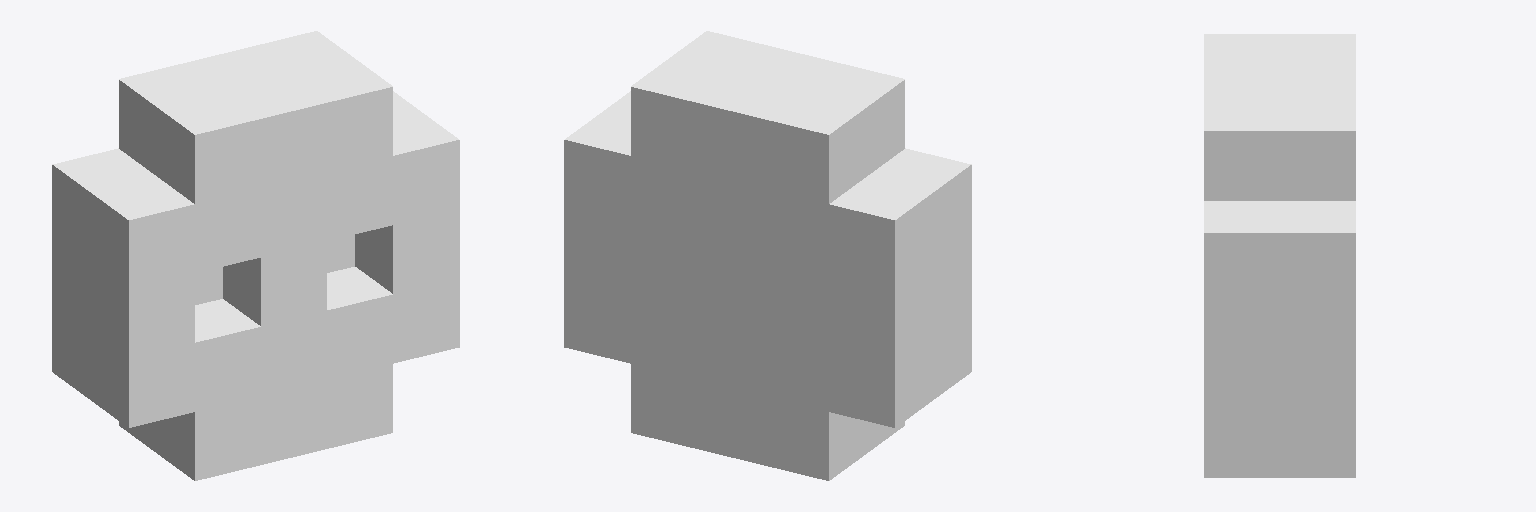
Rendered from Socket.obj.
3 views of the same model, side by side, from view 1: azimuth 30°, elevation 25°; view 2: azimuth 150°, elevation 25°; view 3: azimuth 270°, elevation 25° (orthographic).
Parts seen in each view (by area): view 1: object 1; view 2: object 1; view 3: object 1.
Part boxes in pixels (left/top/right/bottom): object 1: left=52, top=31, right=459, bottom=480; object 1: left=564, top=31, right=971, bottom=480; object 1: left=1204, top=34, right=1355, bottom=477.
Bounding box in the file's own units: 0.5 × 0.5 × 0.2.